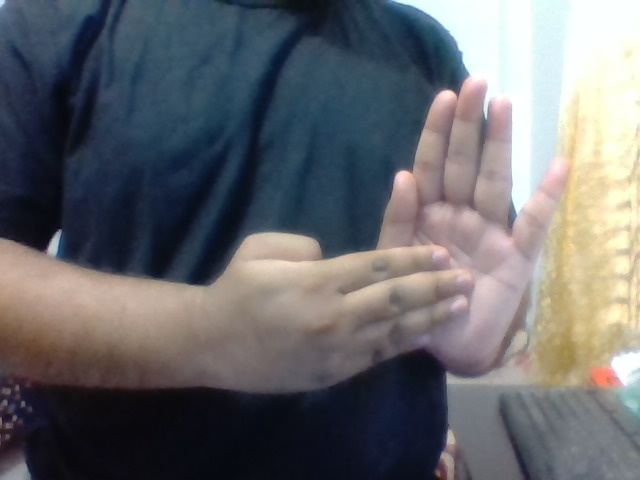H: (189, 67, 585, 392)
